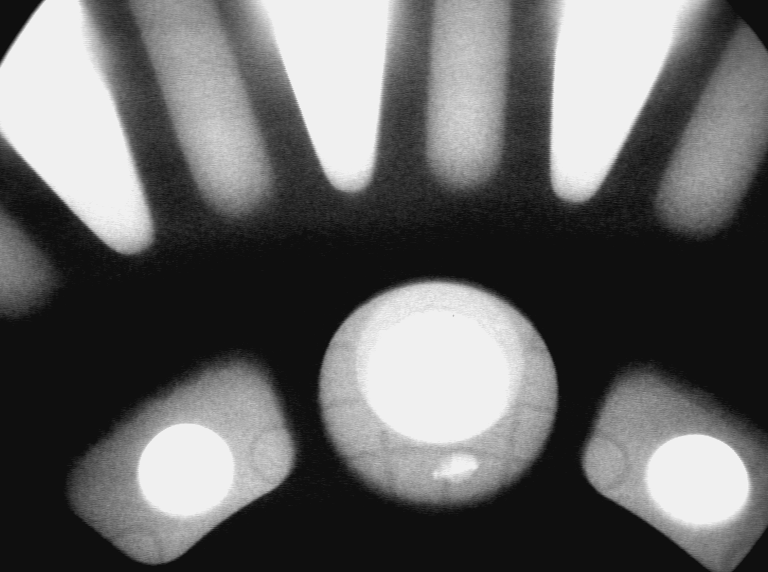defect: (430, 451, 482, 487)
